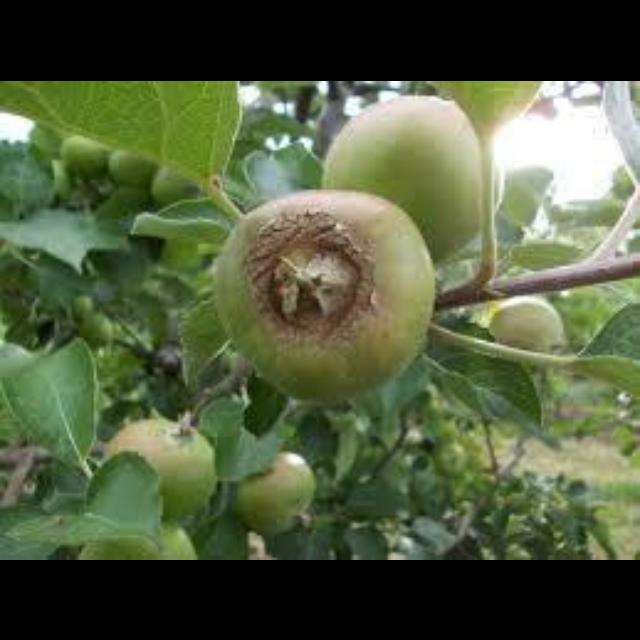apple: (215, 189, 432, 401)
pest: (245, 201, 361, 339)
